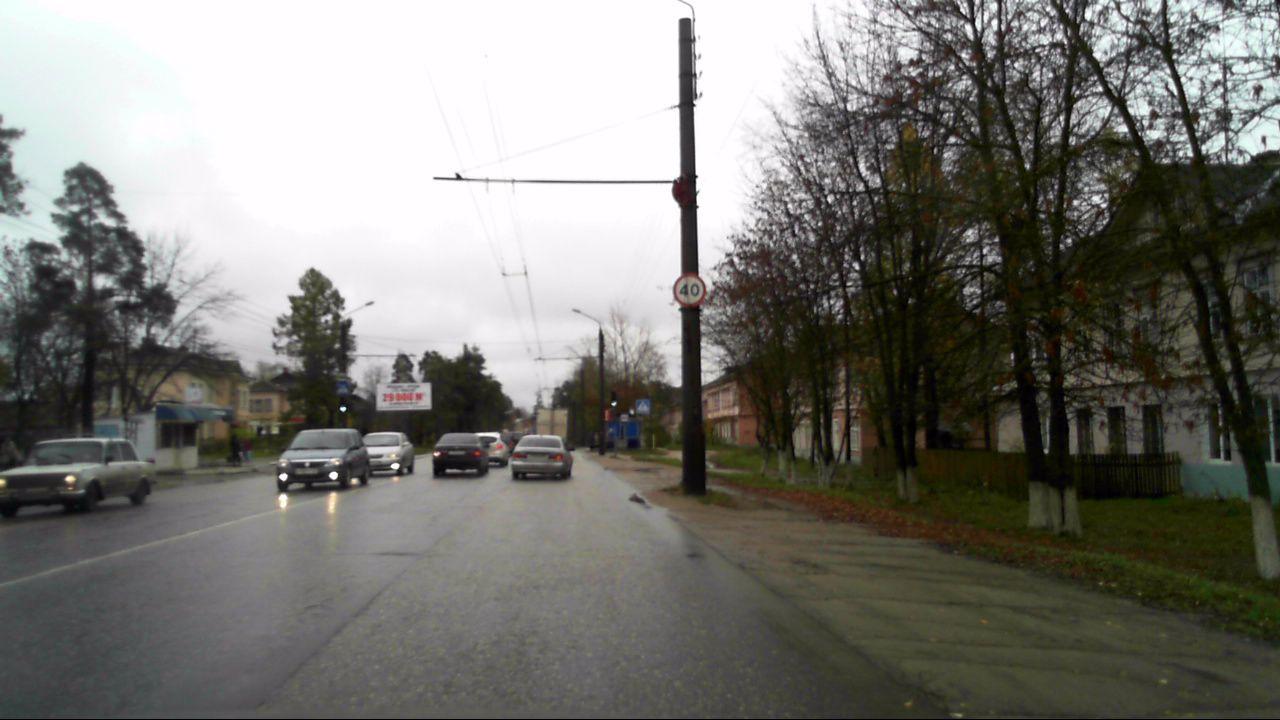speed_warning_40: (672, 273, 706, 308)
